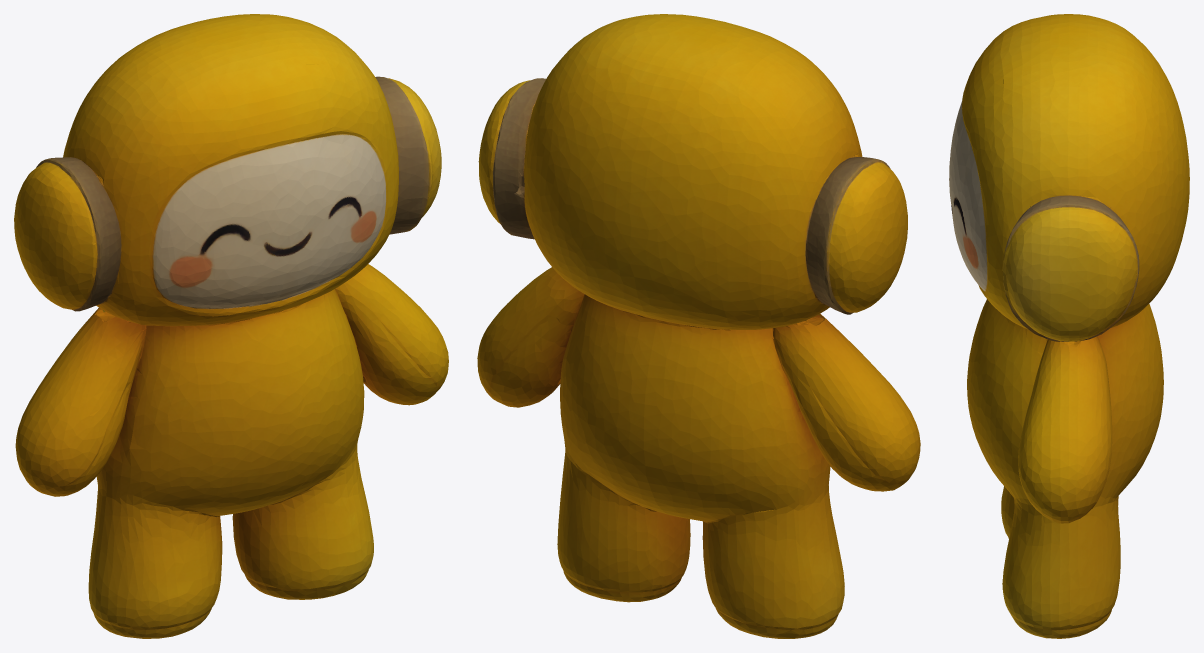
The model's file is electraica-base-body-sam.glb.
3 views of the same model, side by side, from view 1: azimuth 30°, elevation 25°; view 2: azimuth 150°, elevation 25°; view 3: azimuth 270°, elevation 25° (orthographic). The views are drawn at different scales.
Parts seen in each view (by area): view 1: world; view 2: world; view 3: world.
Boxes of the visible parts, x1,y1,x2,y2 form: world: [14, 14, 448, 638]; world: [477, 14, 920, 638]; world: [949, 14, 1189, 638].
Size of the model in its own units: 0.7833 by 0.9992 by 0.4008.
Materials: 1 (1 with a texture image).
